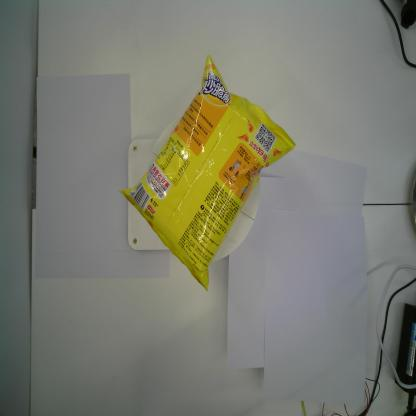Puffed Food: (118, 52, 297, 293)
